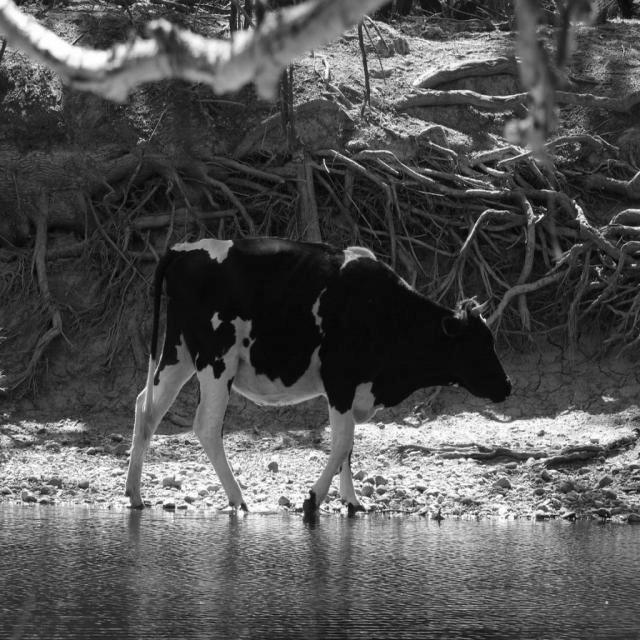cow: (126, 238, 511, 519)
